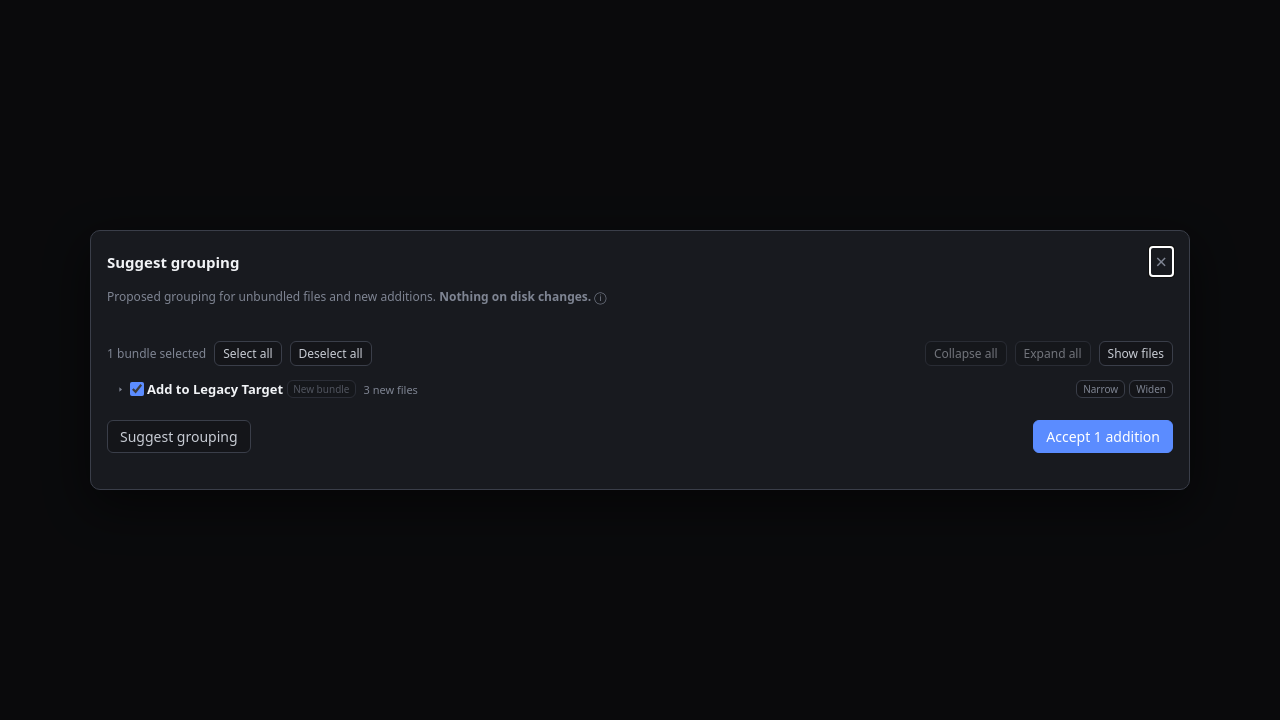
Test: uses the legacy proposal title when the target snapshot title is absent
The width and height of the screenshot is (1280, 720).
Check: the text "Add to Legacy Target" is shown, box [147,380,283,398]
Click the button with aria-label "Create a new bundle from these files" at (321, 389), box [287,380,356,398]
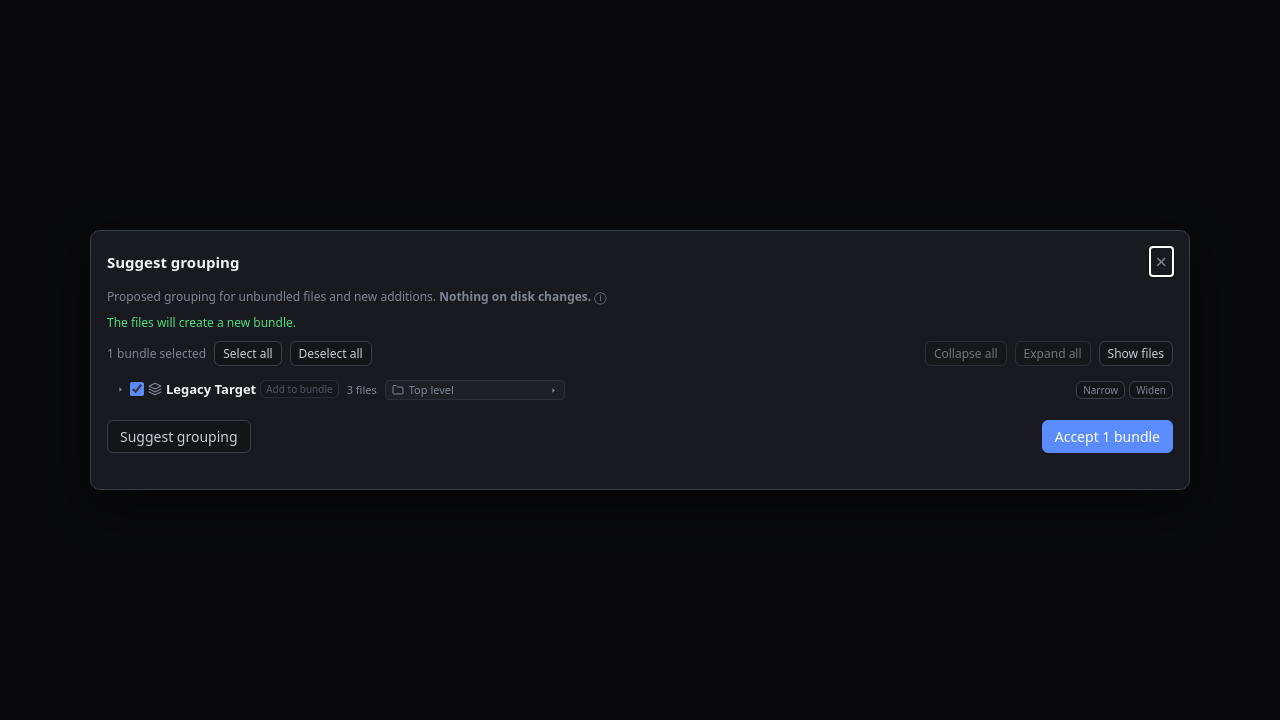
Check: the text "Add to Legacy Target" is gone
Check: the button with aria-label "Add these files to “Legacy Target” instead" is shown, box [260,380,339,398]
